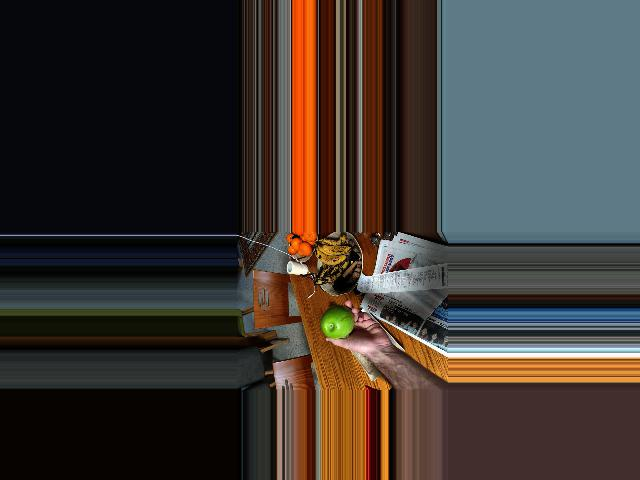apple: (320, 305, 356, 338)
